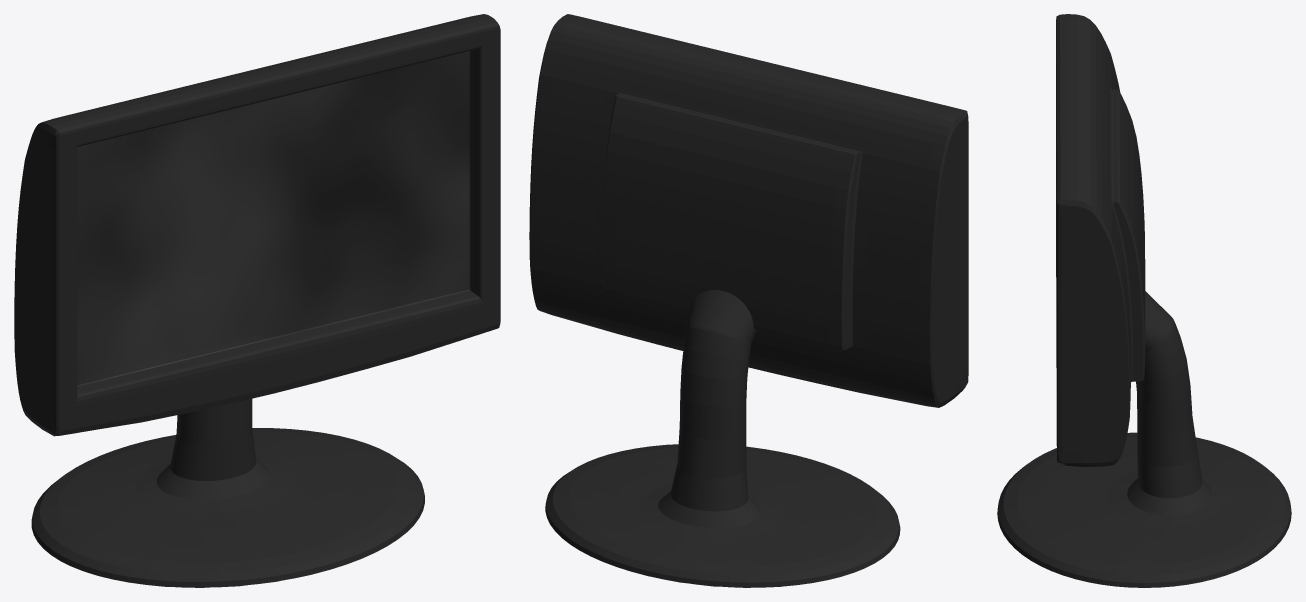
The model's file is desktop.glb.
3 views of the same model, side by side, from view 1: azimuth 30°, elevation 25°; view 2: azimuth 150°, elevation 25°; view 3: azimuth 270°, elevation 25° (orthographic). The views are drawn at different scales.
Parts seen in each view (by area): view 1: screen; view 2: screen; view 3: screen.
Boxes of the visible parts, x1=… form: screen: x1=14, y1=14, x2=500, y2=587; screen: x1=529, y1=14, x2=968, y2=587; screen: x1=997, y1=14, x2=1291, y2=587.
Bounding box in the file's own units: 3 × 3.05 × 1.99.
2 materials, 1 textured.
